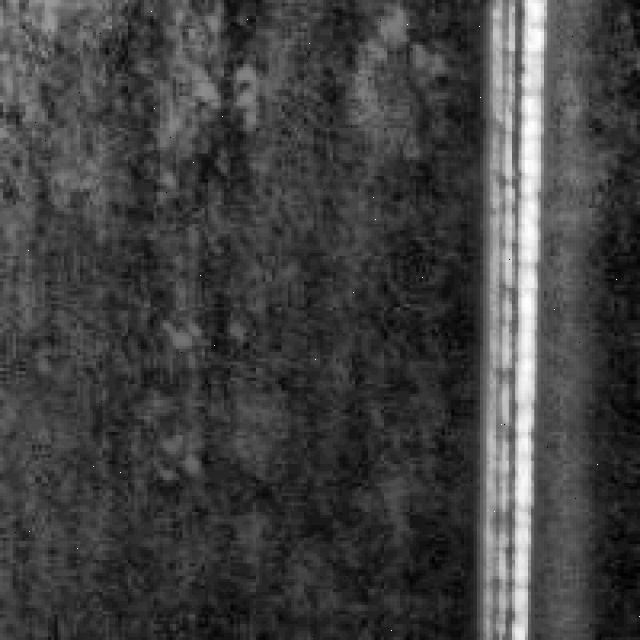Inclusion: (464, 0, 550, 634)
